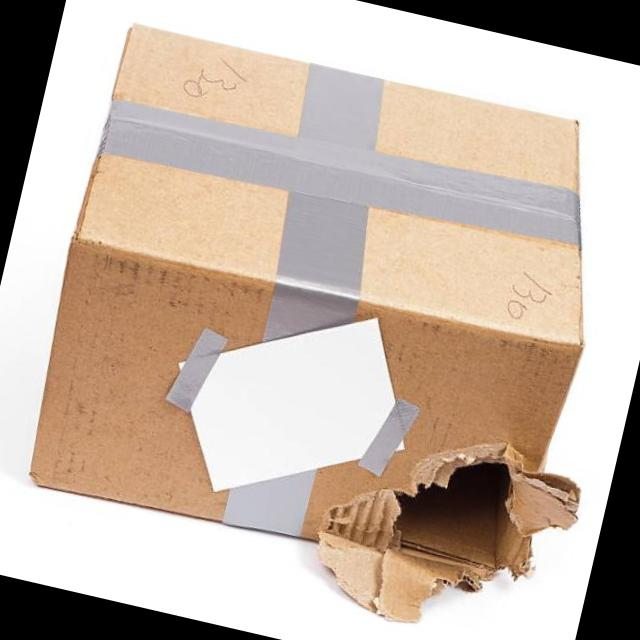tear: (320, 445, 584, 624)
